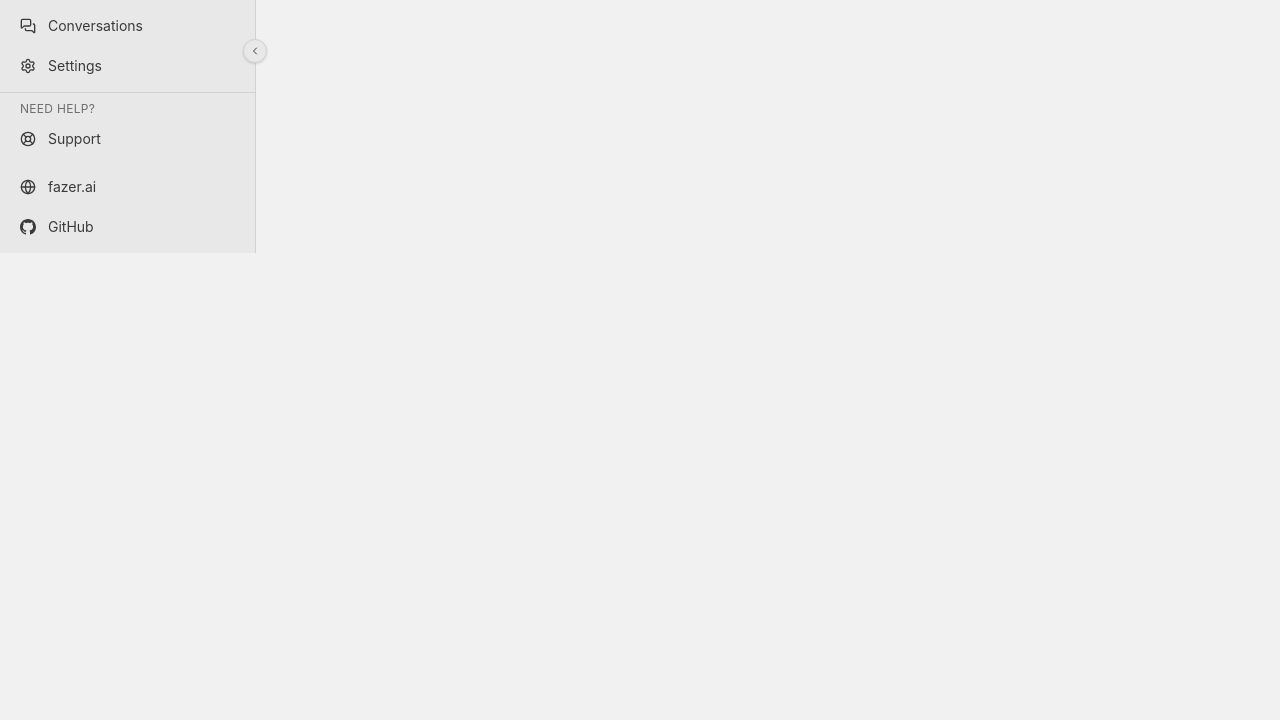
Test: Sidebar › footer › clicking support button opens a dialog with the email
Click the button "Support" at (128, 139), box x1=8 y1=121 x2=247 y2=157
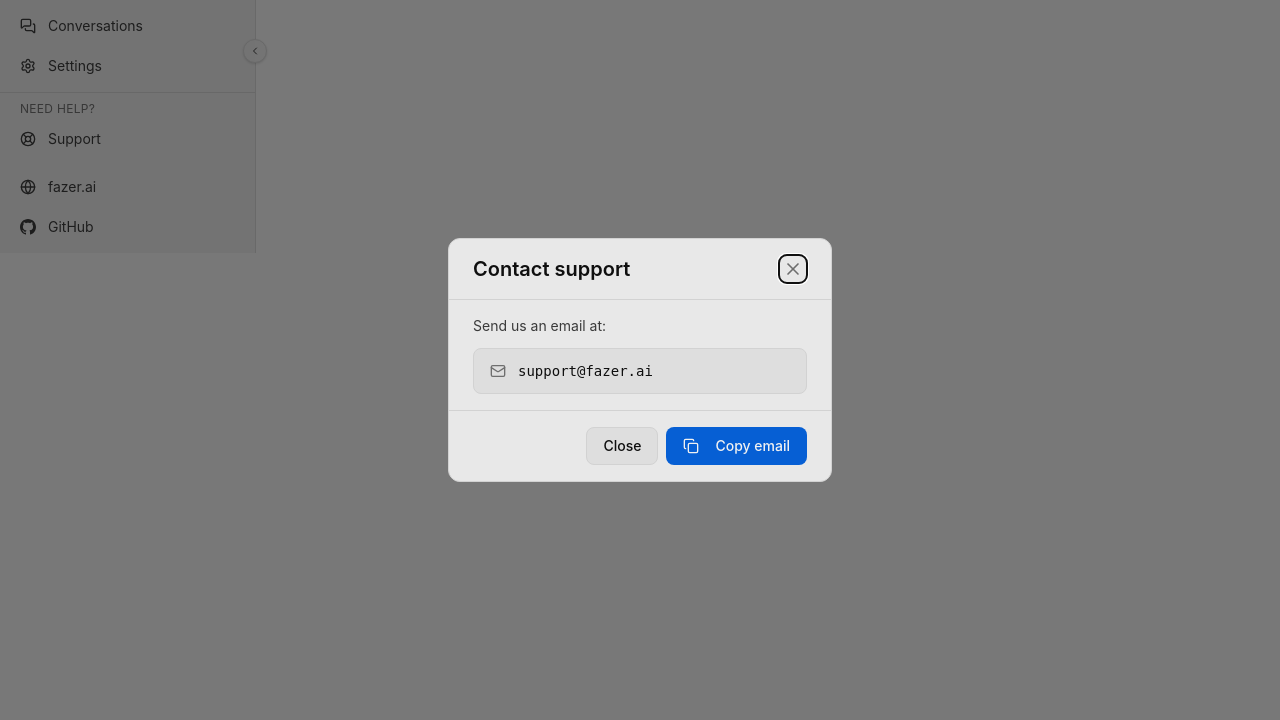
expect the dialog is shown: met, box x1=448 y1=238 x2=832 y2=482
